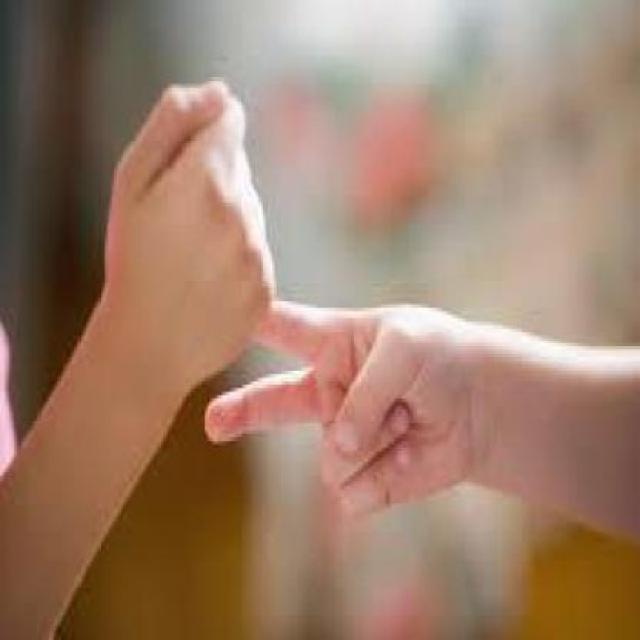Paper: (138, 300, 511, 531)
Rock: (47, 44, 279, 371)
